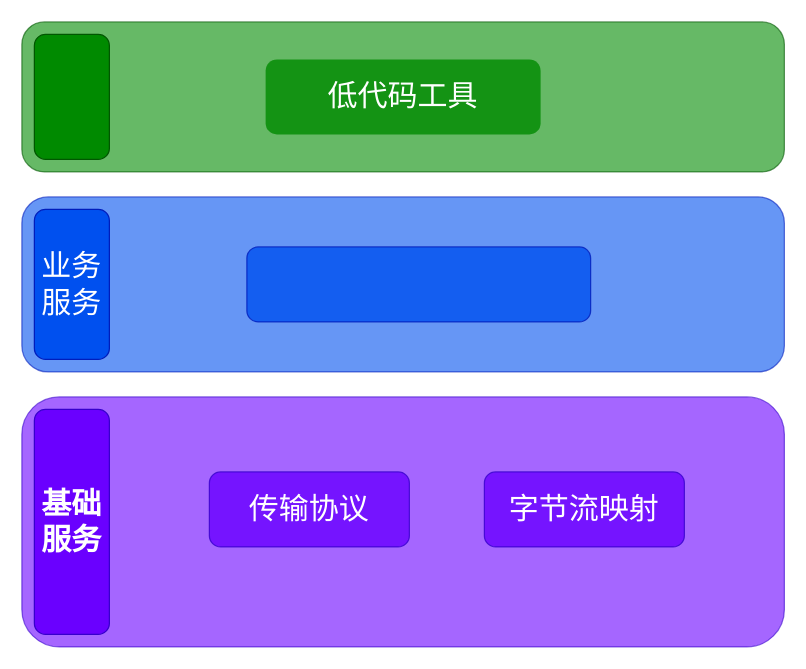
Image size: 806x669. Some labels were removed from this diagram. The box of each missing label's shape, as (x1, y1, x2, y2) in pixels:
业务数据结构自定义: (246, 246, 591, 322)
应用服务: (33, 33, 109, 159)
